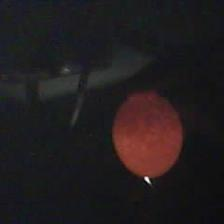infertile: (111, 88, 185, 178)
